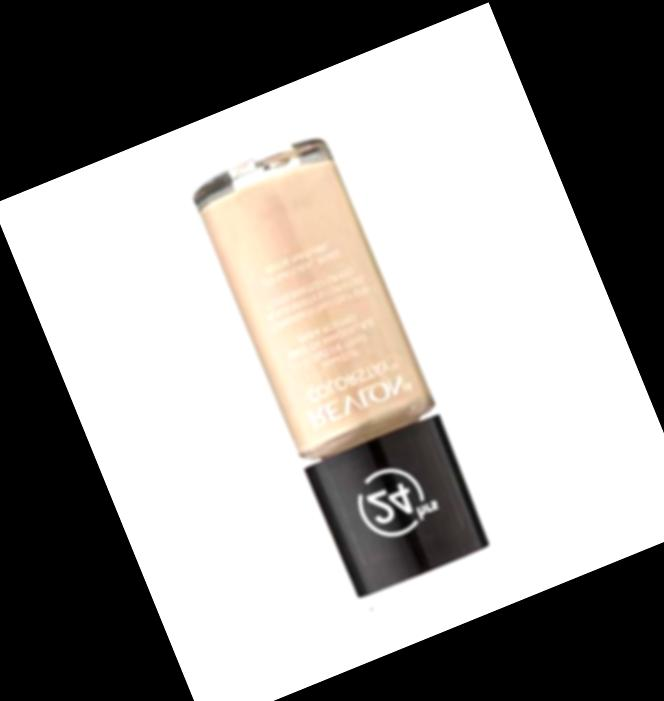cosmetic: (187, 134, 491, 599)
